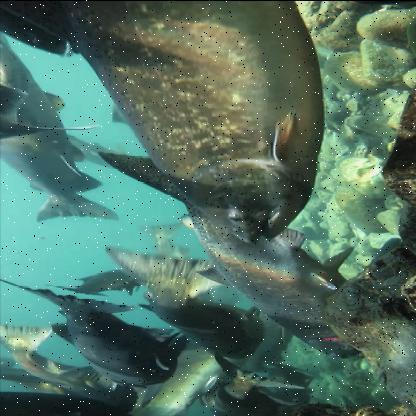fish: (44, 1, 341, 253), (95, 151, 366, 359), (0, 277, 190, 385)
